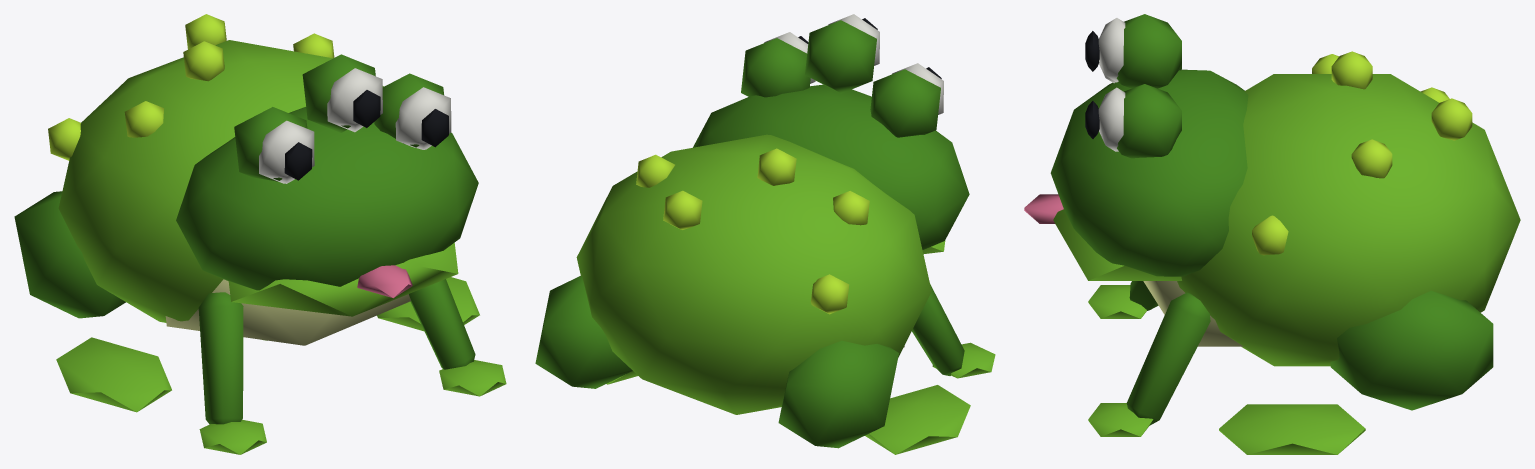
The model's file is e_mutanten_giftkroete.glb.
The picture shows the model from 3 angles, left to right: view 1: azimuth 30°, elevation 25°; view 2: azimuth 150°, elevation 25°; view 3: azimuth 270°, elevation 25°; orthographic projection. The views are drawn at different scales.
Visible parts, largest first — view 1: body; view 2: body; view 3: body.
Boxes of the visible parts, x1,y1,x2,y2 form: body: [14, 14, 506, 454]; body: [535, 14, 995, 454]; body: [1024, 14, 1520, 454].
Bounding box in the file's own units: 1.16 × 0.992 × 1.24.
